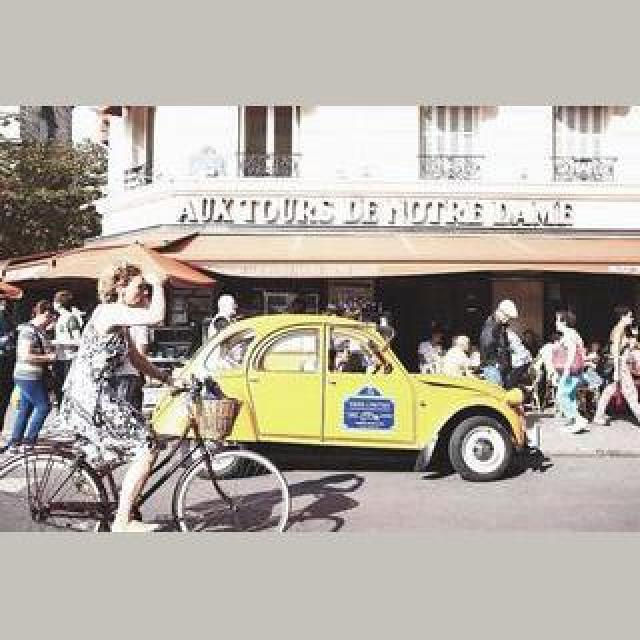Bus-Bike: (170, 312, 552, 478)
MC-Bike: (60, 254, 178, 530), (2, 300, 58, 452), (478, 300, 534, 390), (548, 310, 586, 426)
Person: (0, 374, 290, 530)
